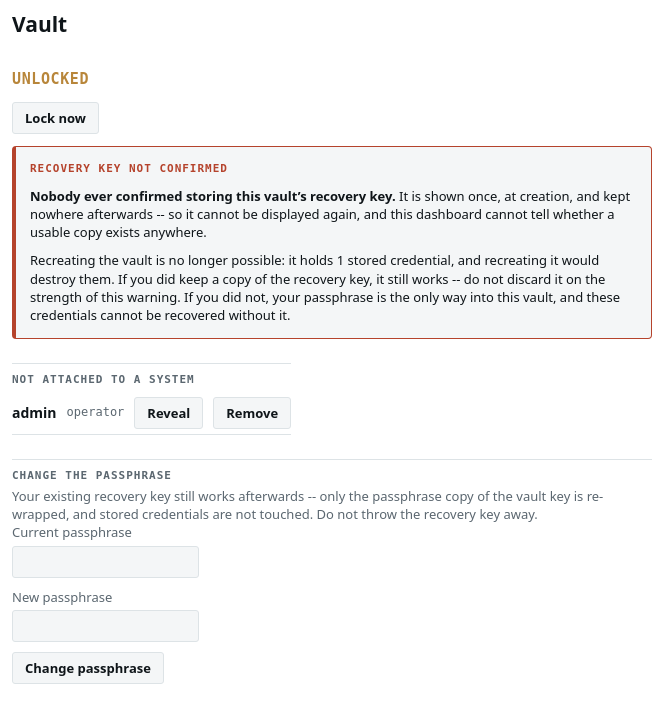
it: VaultPanel › auto-lock at the session deadline (fix round 1) › does not lock early -- a secret survives right up to, but not past, the deadline
The image size is (669, 701).
What coordinates should you click on to do the following:
click the button with test id "reveal-c1"
I would click on:
 (169, 413)
Its box is [134,396,203,429].
Wait 4000 ms
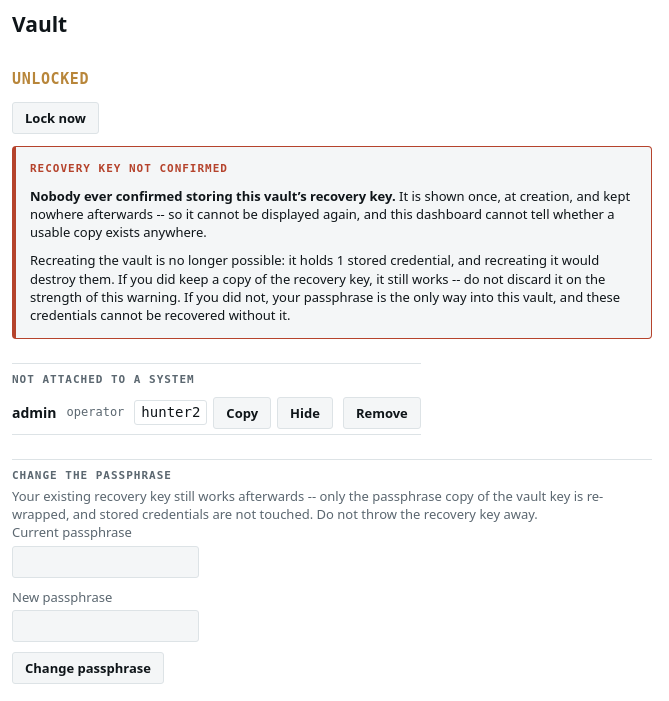
expect the text "Unlocked" is shown: met, box [12,69,89,90]
expect the text "hunter2" is shown: met, box [134,400,207,425]
